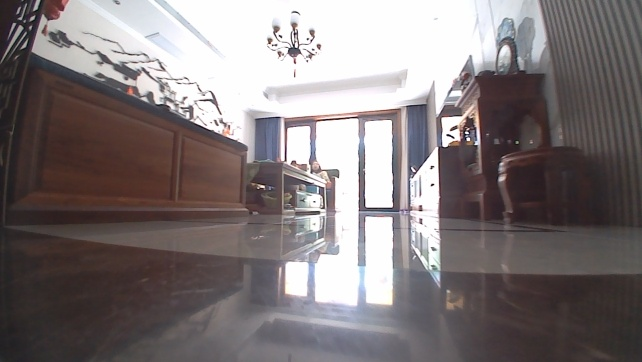TV_stand1: (410, 142, 477, 218)
tea_table: (244, 159, 328, 218)
